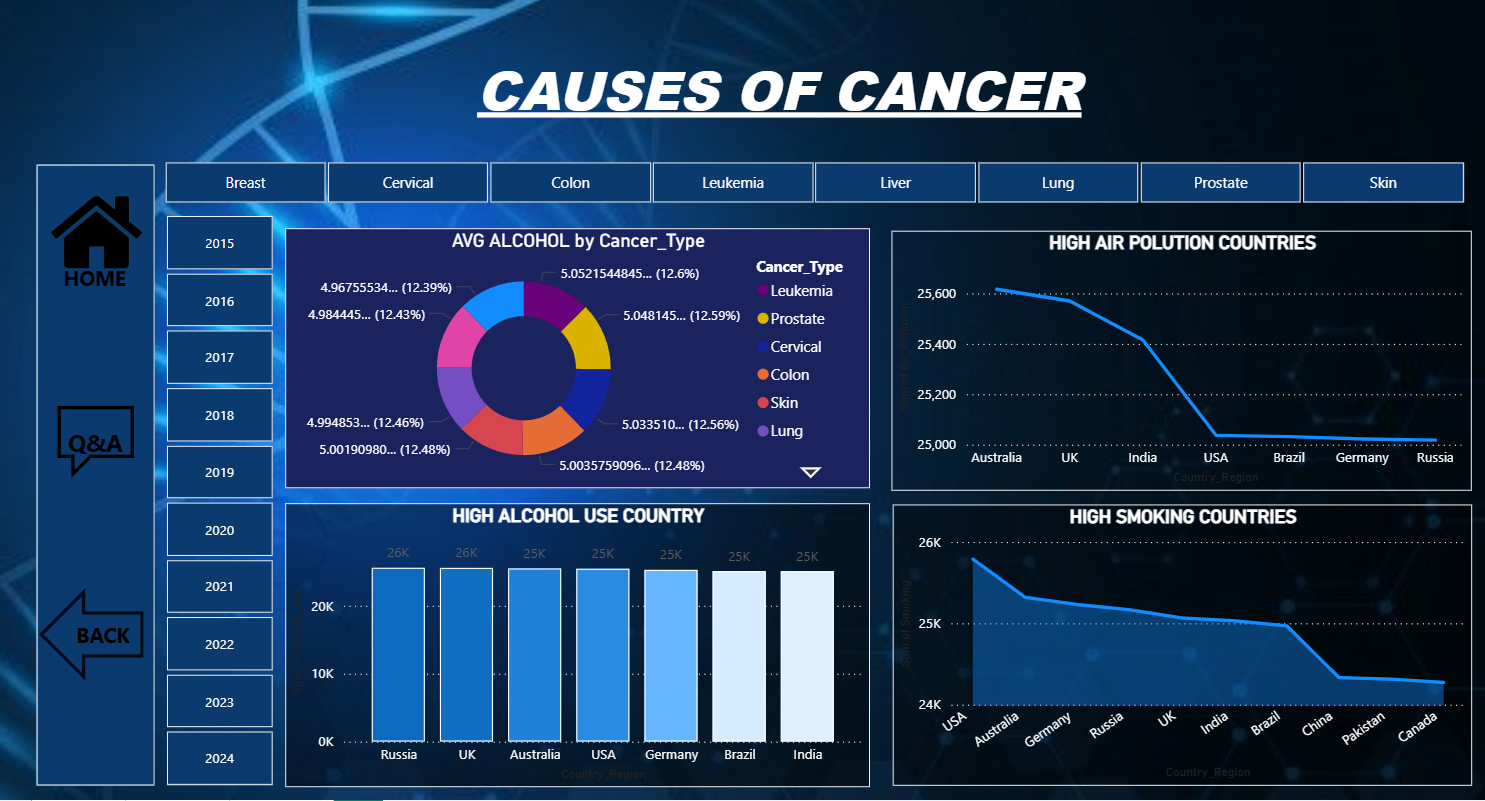

This screenshot's page, from the dashboard's own definition file:
{"tool":"powerbi","page":{"name":"CAUSES","canvas":[1349,729],"ordinal":2},"visuals":[{"type":"slicer","fields":{"Values":["global_cancer_patients_2015_2024.Cancer_Type"]},"box":[128.7,147.1,1220.6,50.2],"z":0},{"type":"slicer","fields":{"Values":["global_cancer_patients_2015_2024.Year"]},"box":[129.9,197.3,145.8,524.5],"z":1000},{"type":"lineChart","title":"HIGH AIR POLUTION COUNTRIES","fields":{"Category":["global_cancer_patients_2015_2024.Country_Region"],"Y":["Sum(global_cancer_patients_2015_2024.Air_Pollution)"]},"box":[808.8,215.7,523.3,234.1],"z":2000},{"type":"columnChart","title":"HIGH ALCOHOL USE COUNTRY","fields":{"Category":["global_cancer_patients_2015_2024.Country_Region"],"Y":["Sum(global_cancer_patients_2015_2024.Alcohol_Use)"]},"box":[262.3,460.8,527,256.1],"z":3000},{"type":"areaChart","title":"HIGH SMOKING COUNTRIES","fields":{"Category":["global_cancer_patients_2015_2024.Country_Region"],"Y":["Sum(global_cancer_patients_2015_2024.Smoking)"]},"box":[810,462,522.1,253.7],"z":4000},{"type":"textbox","box":[430.1,49,615.2,98],"z":5000},{"type":"donutChart","fields":{"Category":["global_cancer_patients_2015_2024.Cancer_Type"],"Y":["global_cancer_patients_2015_2024.AVG SMOKING"]},"box":[263.5,216.9,527,234.1],"z":6000},{"type":"shape","box":[38,155.6,106.6,560],"z":7000},{"type":"image","box":[7.4,115.2,167.9,203.4],"z":8000},{"type":"actionButton","box":[56.4,241.4,68.6,31.9],"z":9000},{"type":"actionButton","box":[49,364,85.8,83.3],"z":10000},{"type":"shape","box":[40.4,538,94.4,83.3],"z":12000}]}

Visuals, with their boxes in screenshot pixels (x1, y1, x2, y2), scaled from the page's 1349x729 canvas onto the 1485x801 screenshot:
slicer - global_cancer_patients_2015_2024.Cancer_Type: (left=142, top=162, right=1484, bottom=217)
slicer - global_cancer_patients_2015_2024.Year: (left=143, top=217, right=303, bottom=793)
"HIGH AIR POLUTION COUNTRIES" lineChart: (left=890, top=237, right=1466, bottom=494)
"HIGH ALCOHOL USE COUNTRY" columnChart: (left=289, top=506, right=869, bottom=788)
"HIGH SMOKING COUNTRIES" areaChart: (left=892, top=508, right=1466, bottom=786)
textbox: (left=473, top=54, right=1151, bottom=162)
donutChart - global_cancer_patients_2015_2024.Cancer_Type x global_cancer_patients_2015_2024.AVG SMOKING: (left=290, top=238, right=870, bottom=496)
shape: (left=42, top=171, right=159, bottom=786)
image: (left=8, top=127, right=193, bottom=350)
actionButton: (left=62, top=265, right=138, bottom=300)
actionButton: (left=54, top=400, right=148, bottom=491)
shape: (left=44, top=591, right=148, bottom=683)
